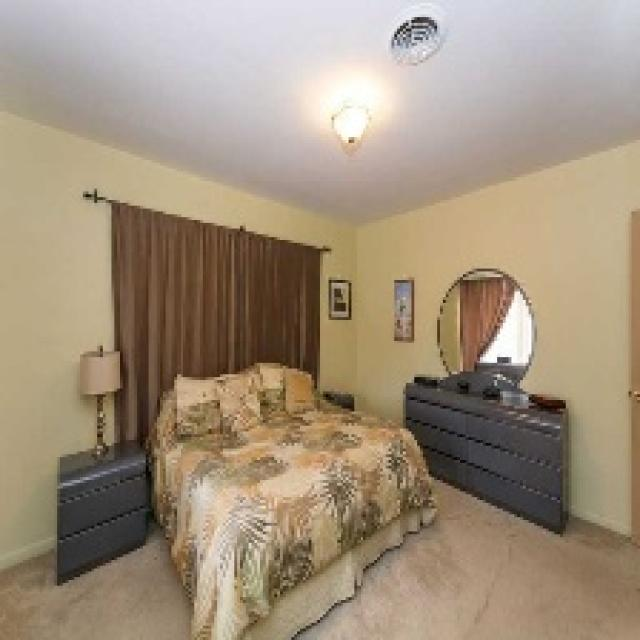Bed: (146, 360, 437, 637)
